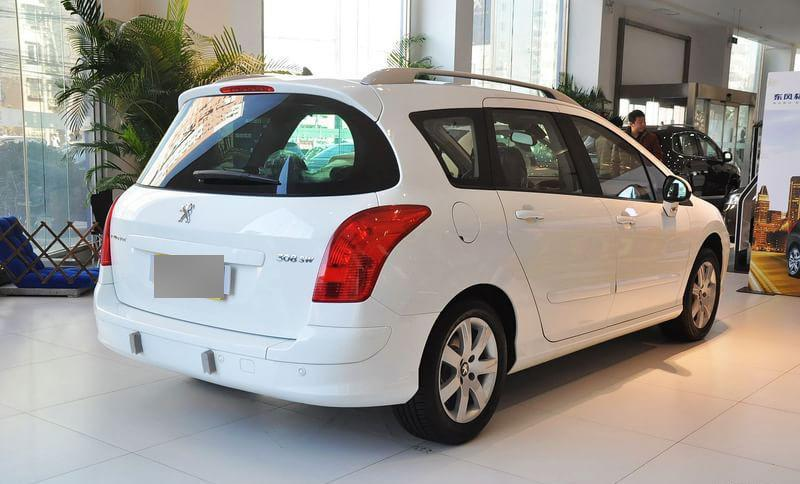Wagon: (93, 67, 731, 447)
